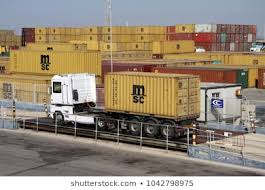Industrial Scale: (17, 118, 253, 154)
